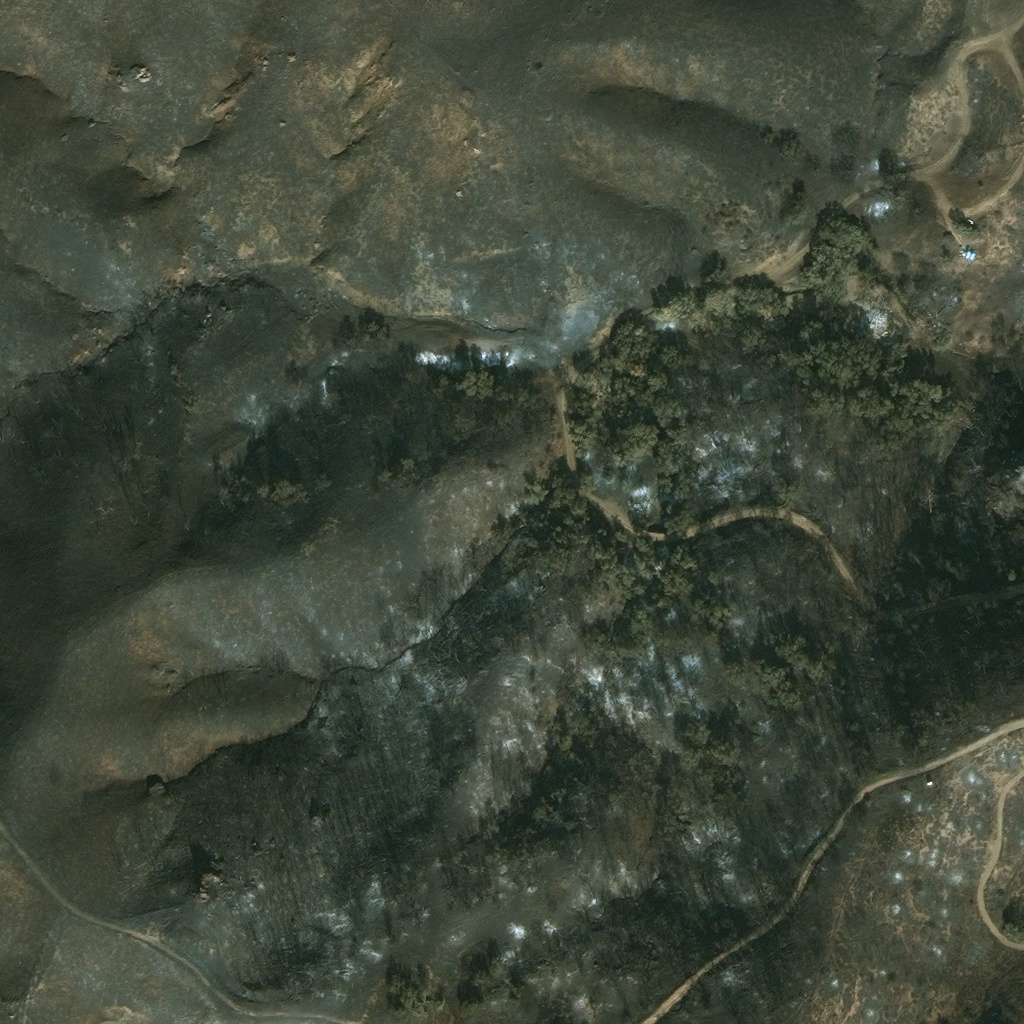0 no-damage: (961, 250, 976, 262), (964, 217, 975, 226), (924, 781, 932, 787)
3 destroyed: (858, 303, 901, 343)
